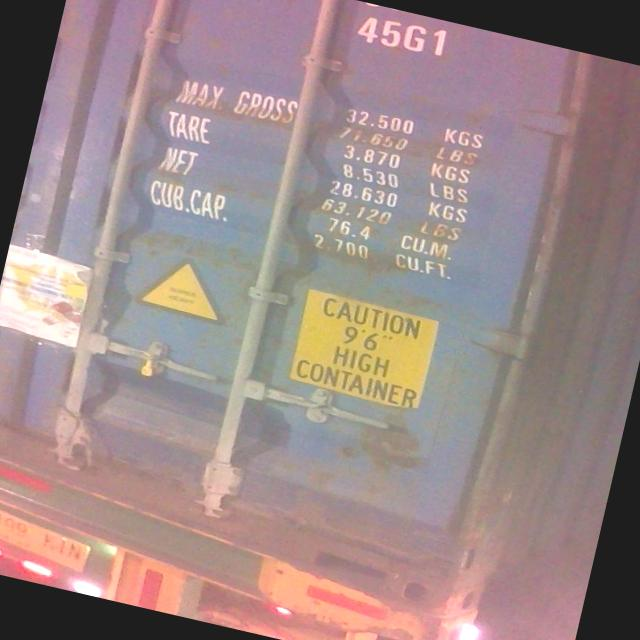seal: (136, 350, 160, 381)
